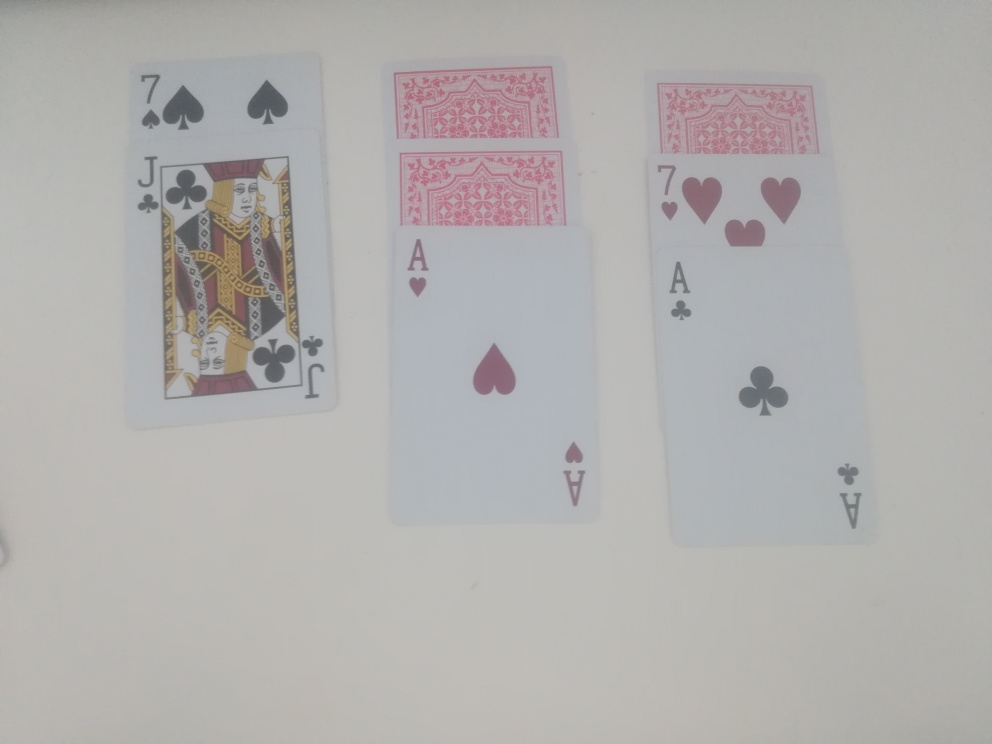7H: (653, 160, 686, 228)
7S: (135, 69, 166, 138)
AC: (666, 259, 700, 327)
AH: (405, 237, 435, 307)
BACK: (395, 149, 568, 233), (657, 82, 827, 158), (393, 71, 562, 143)
JC: (132, 153, 164, 223)
